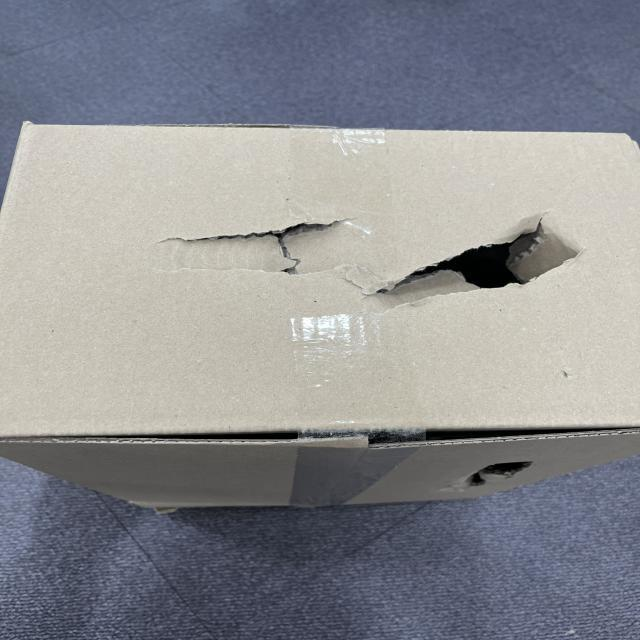hole: (372, 217, 590, 309), (147, 216, 351, 290), (464, 459, 534, 495)
